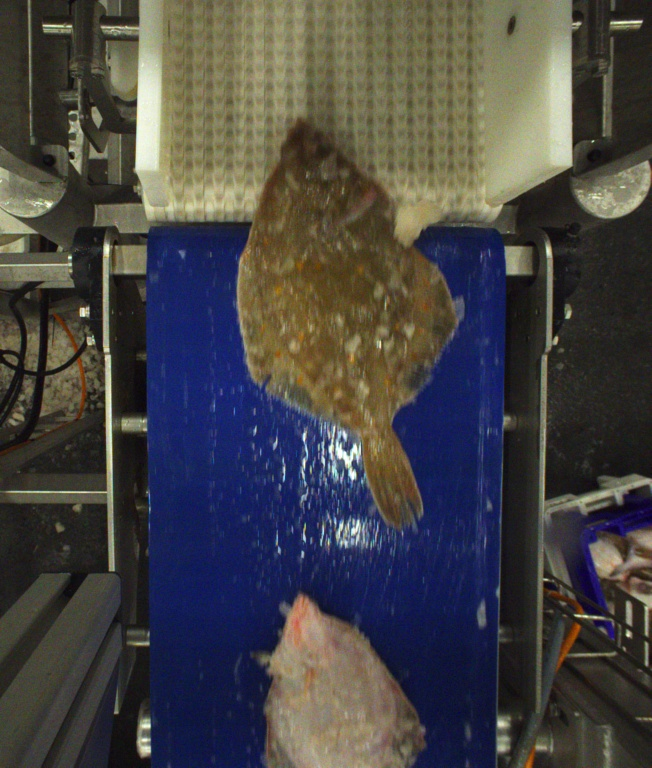PLE: (238, 117, 454, 526)
